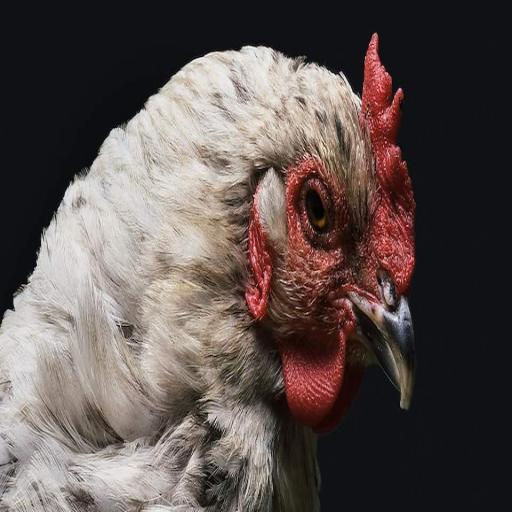disease: (286, 123, 362, 294)
